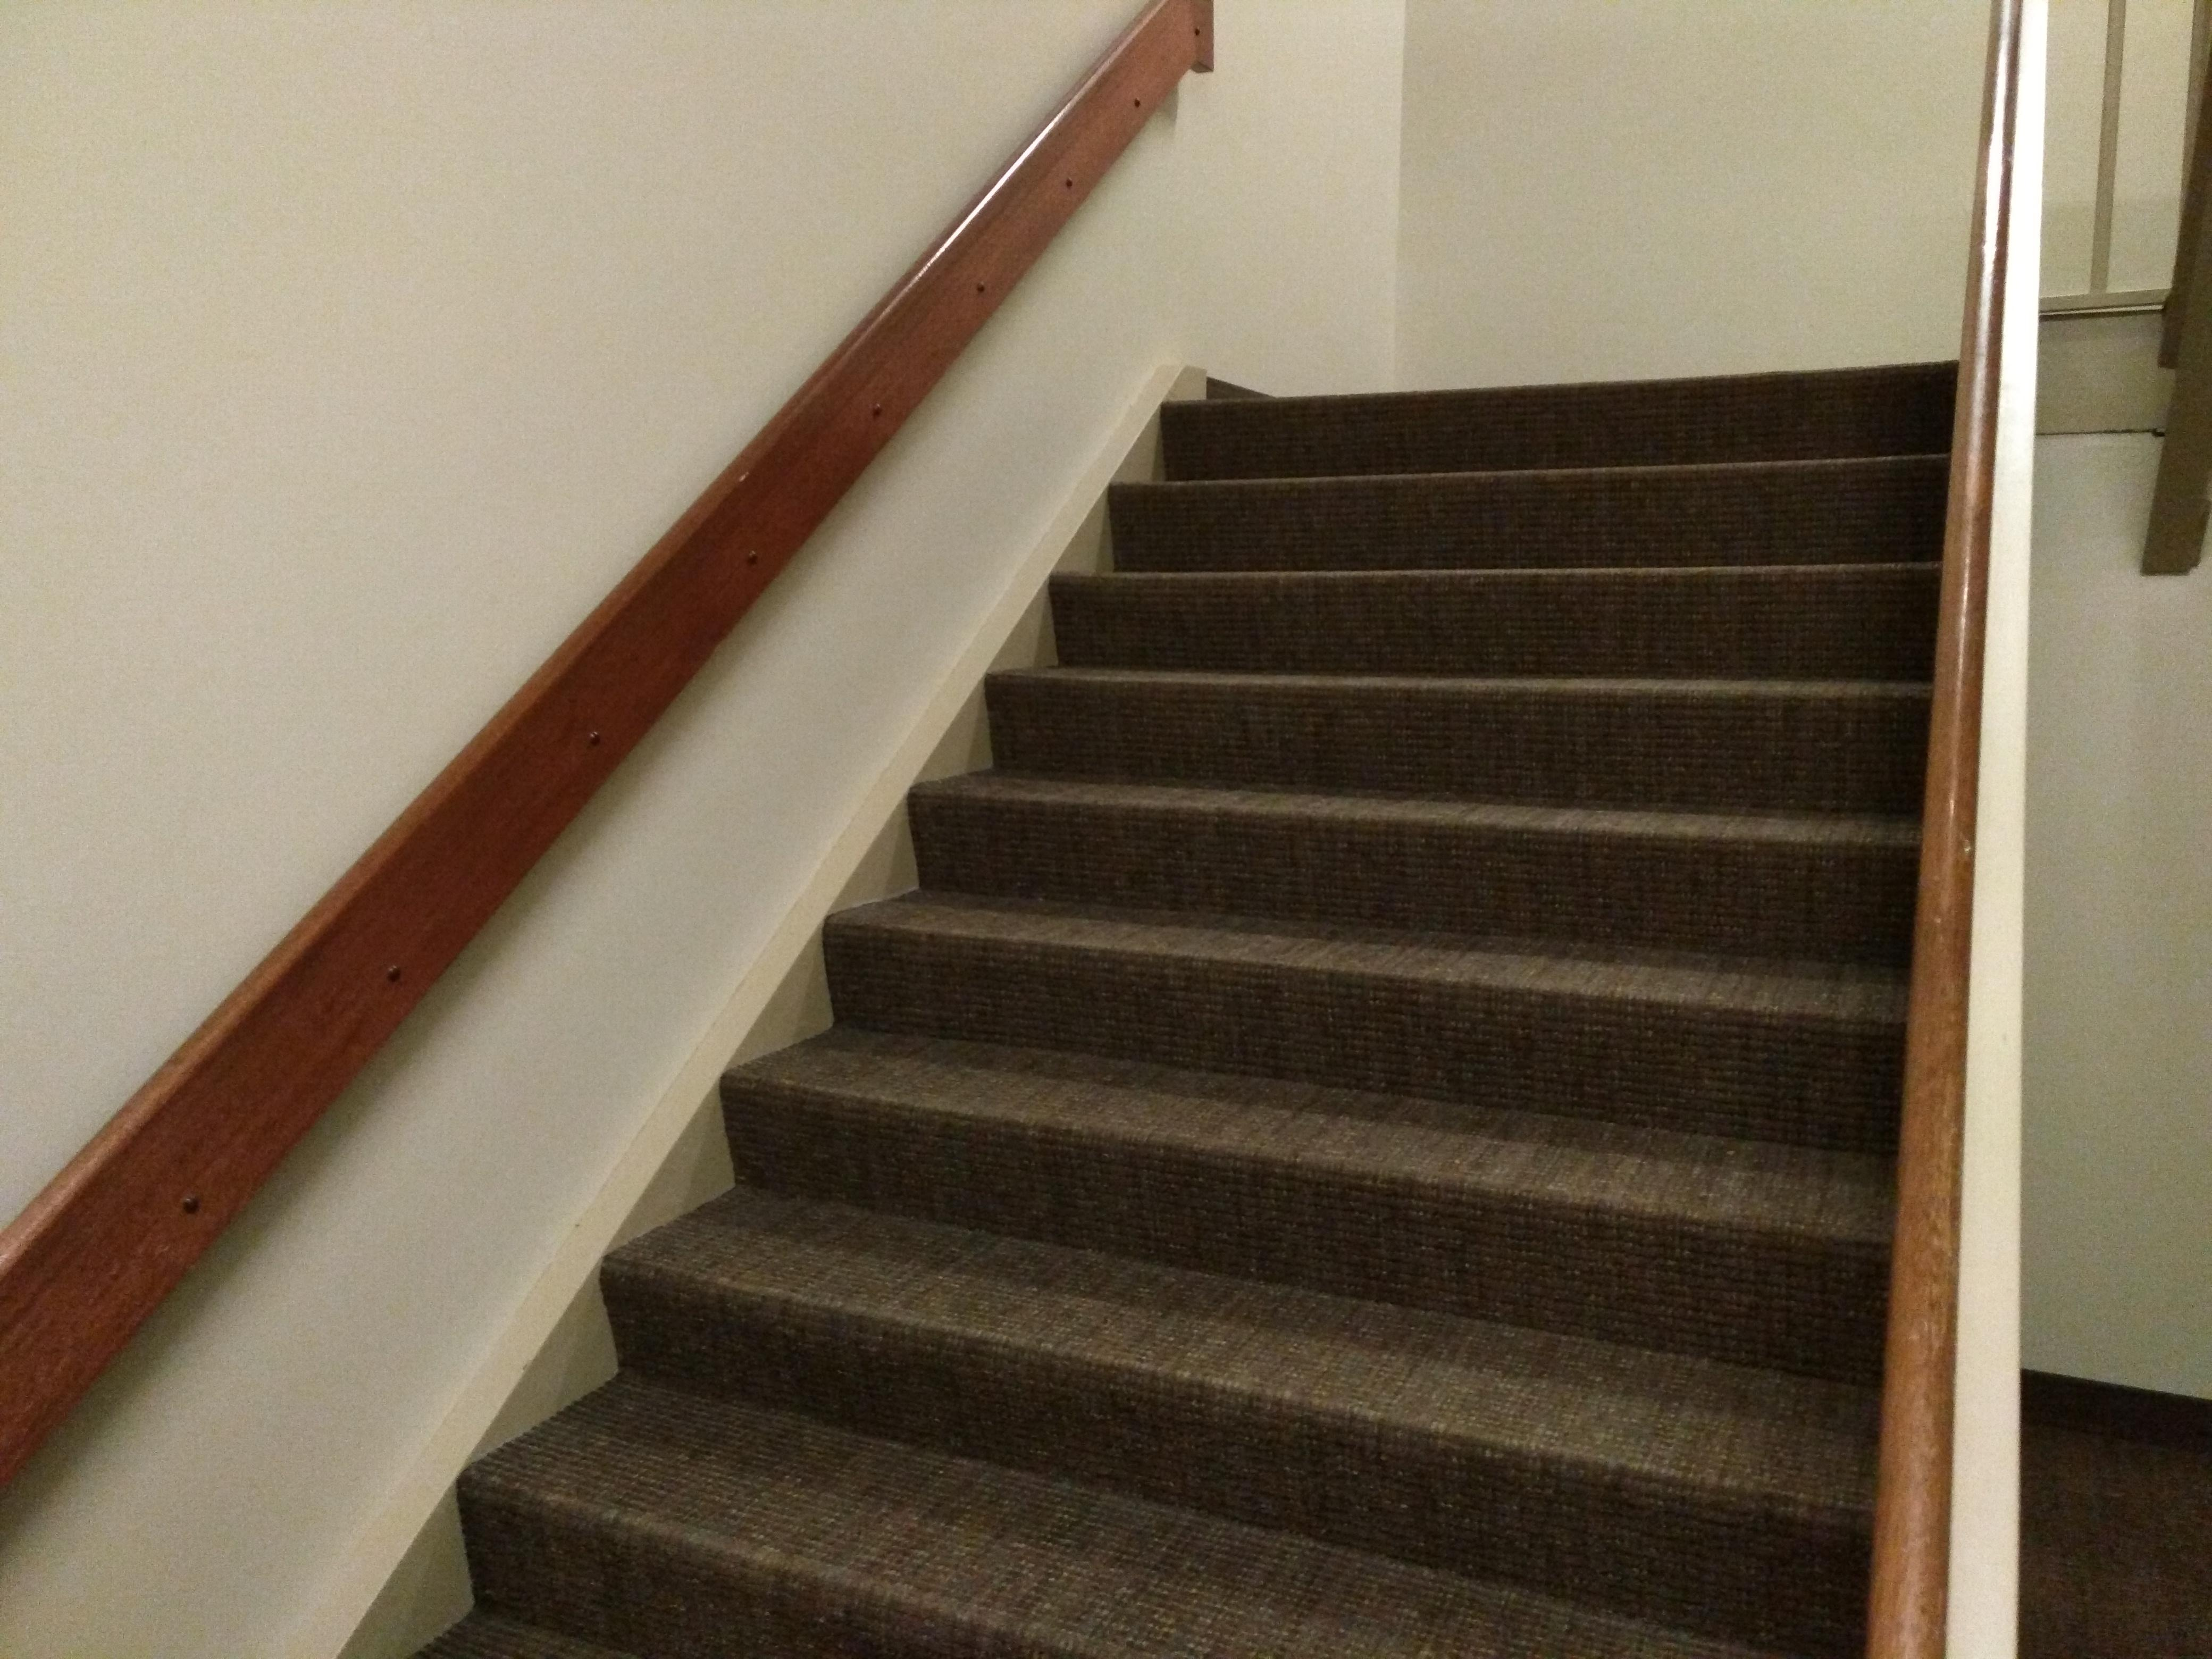stairs_up: (409, 349, 1989, 1638)
